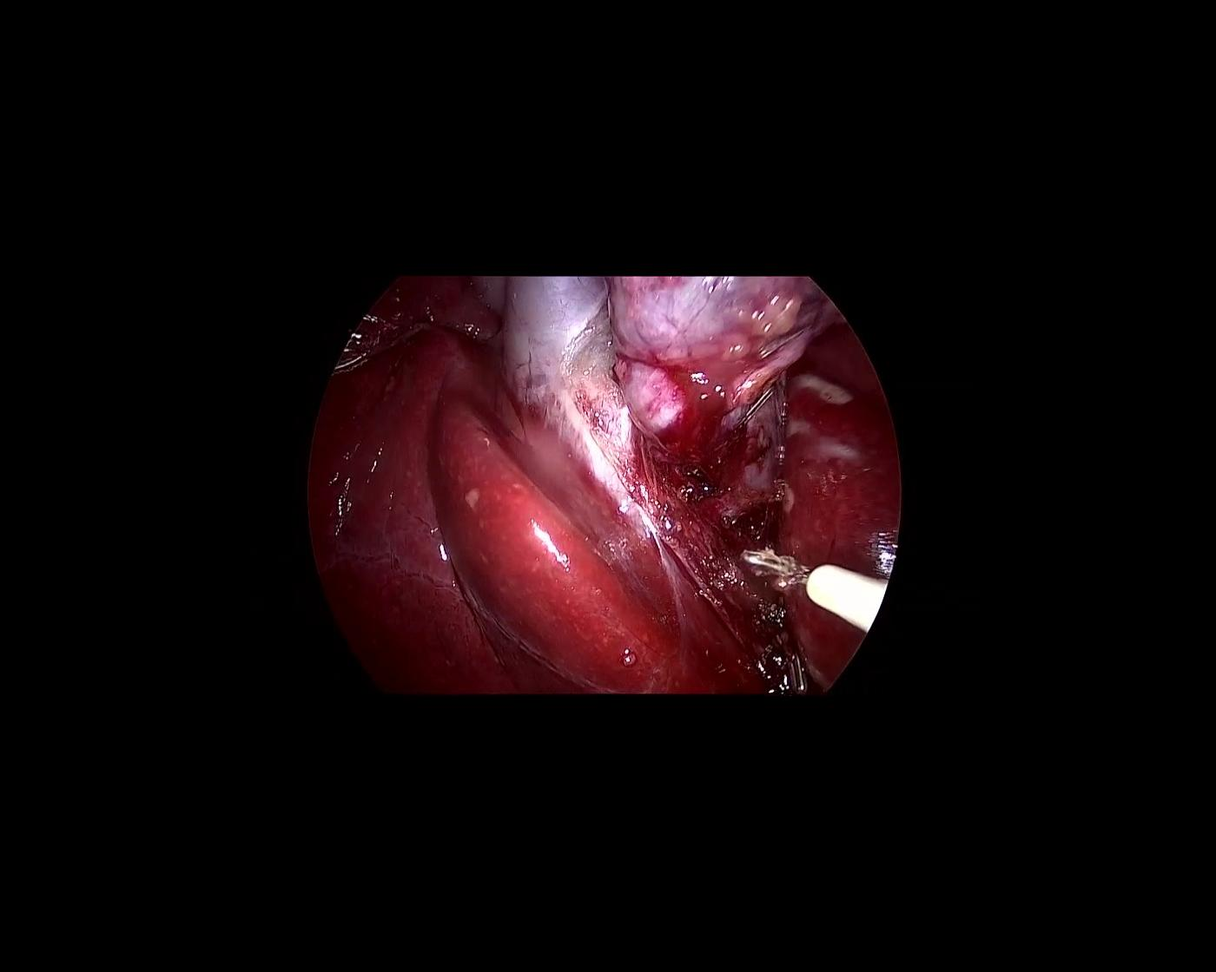Cautery: (728, 523, 889, 636)
Gallbladder: (473, 277, 845, 511)
Liver: (195, 243, 771, 876), (780, 327, 903, 689)
